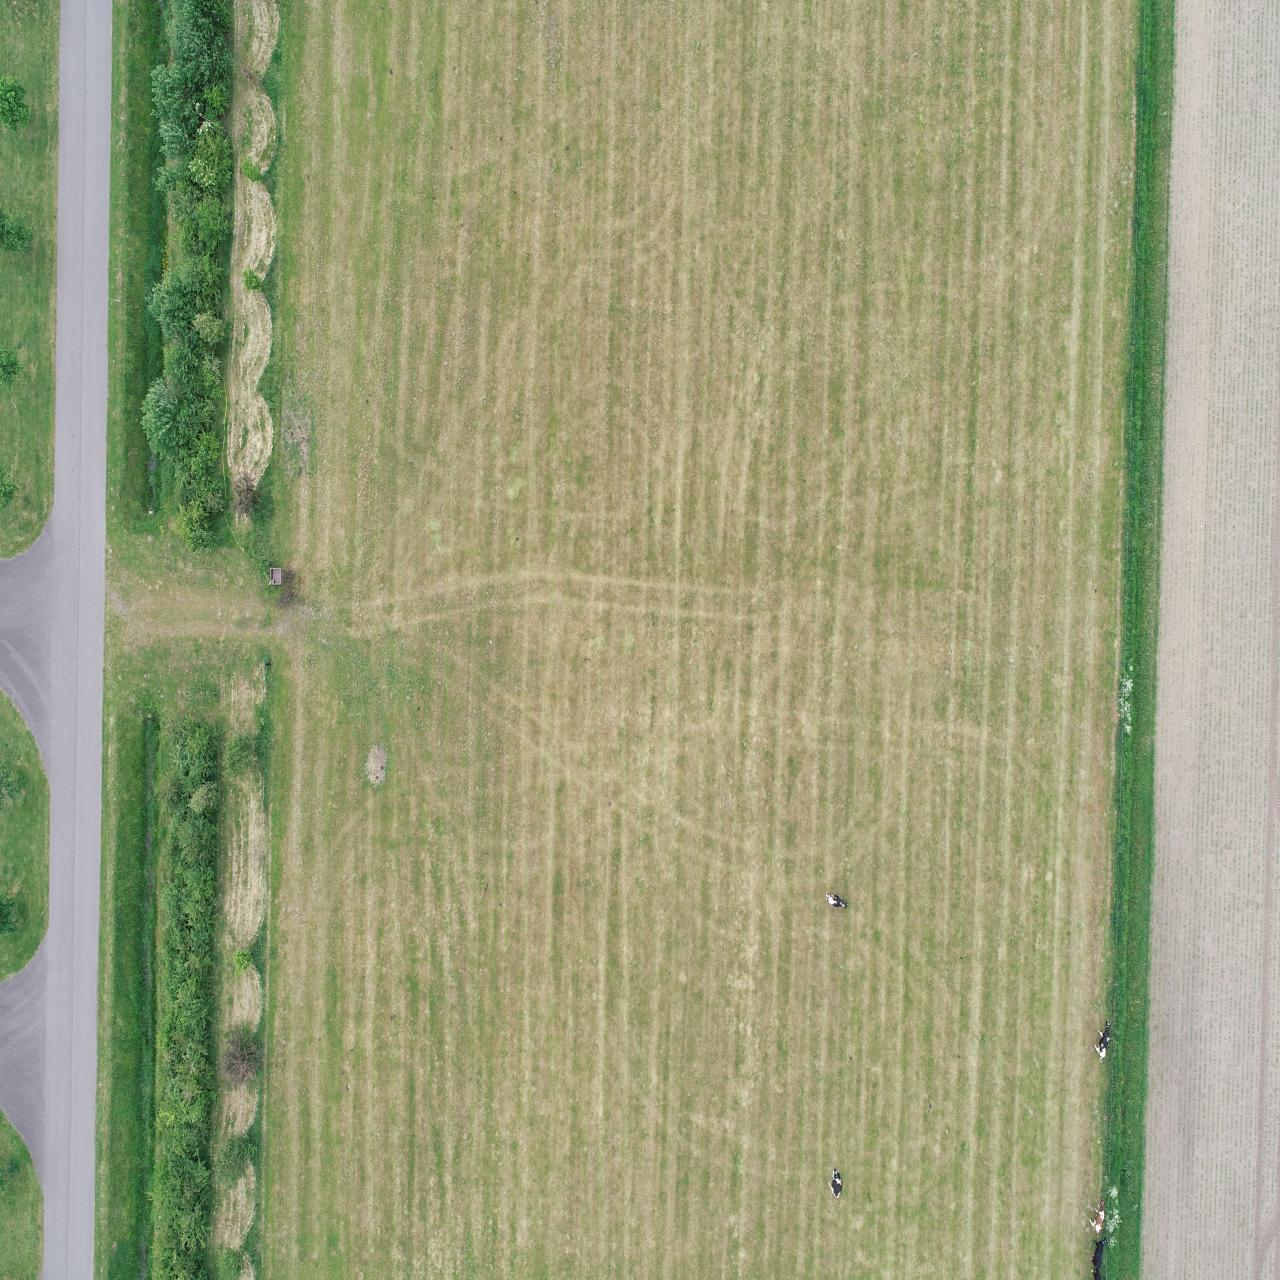cow: (1094, 1017, 1111, 1065), (1089, 1232, 1110, 1268), (1088, 1196, 1107, 1234), (828, 1166, 844, 1199), (824, 891, 847, 908)
